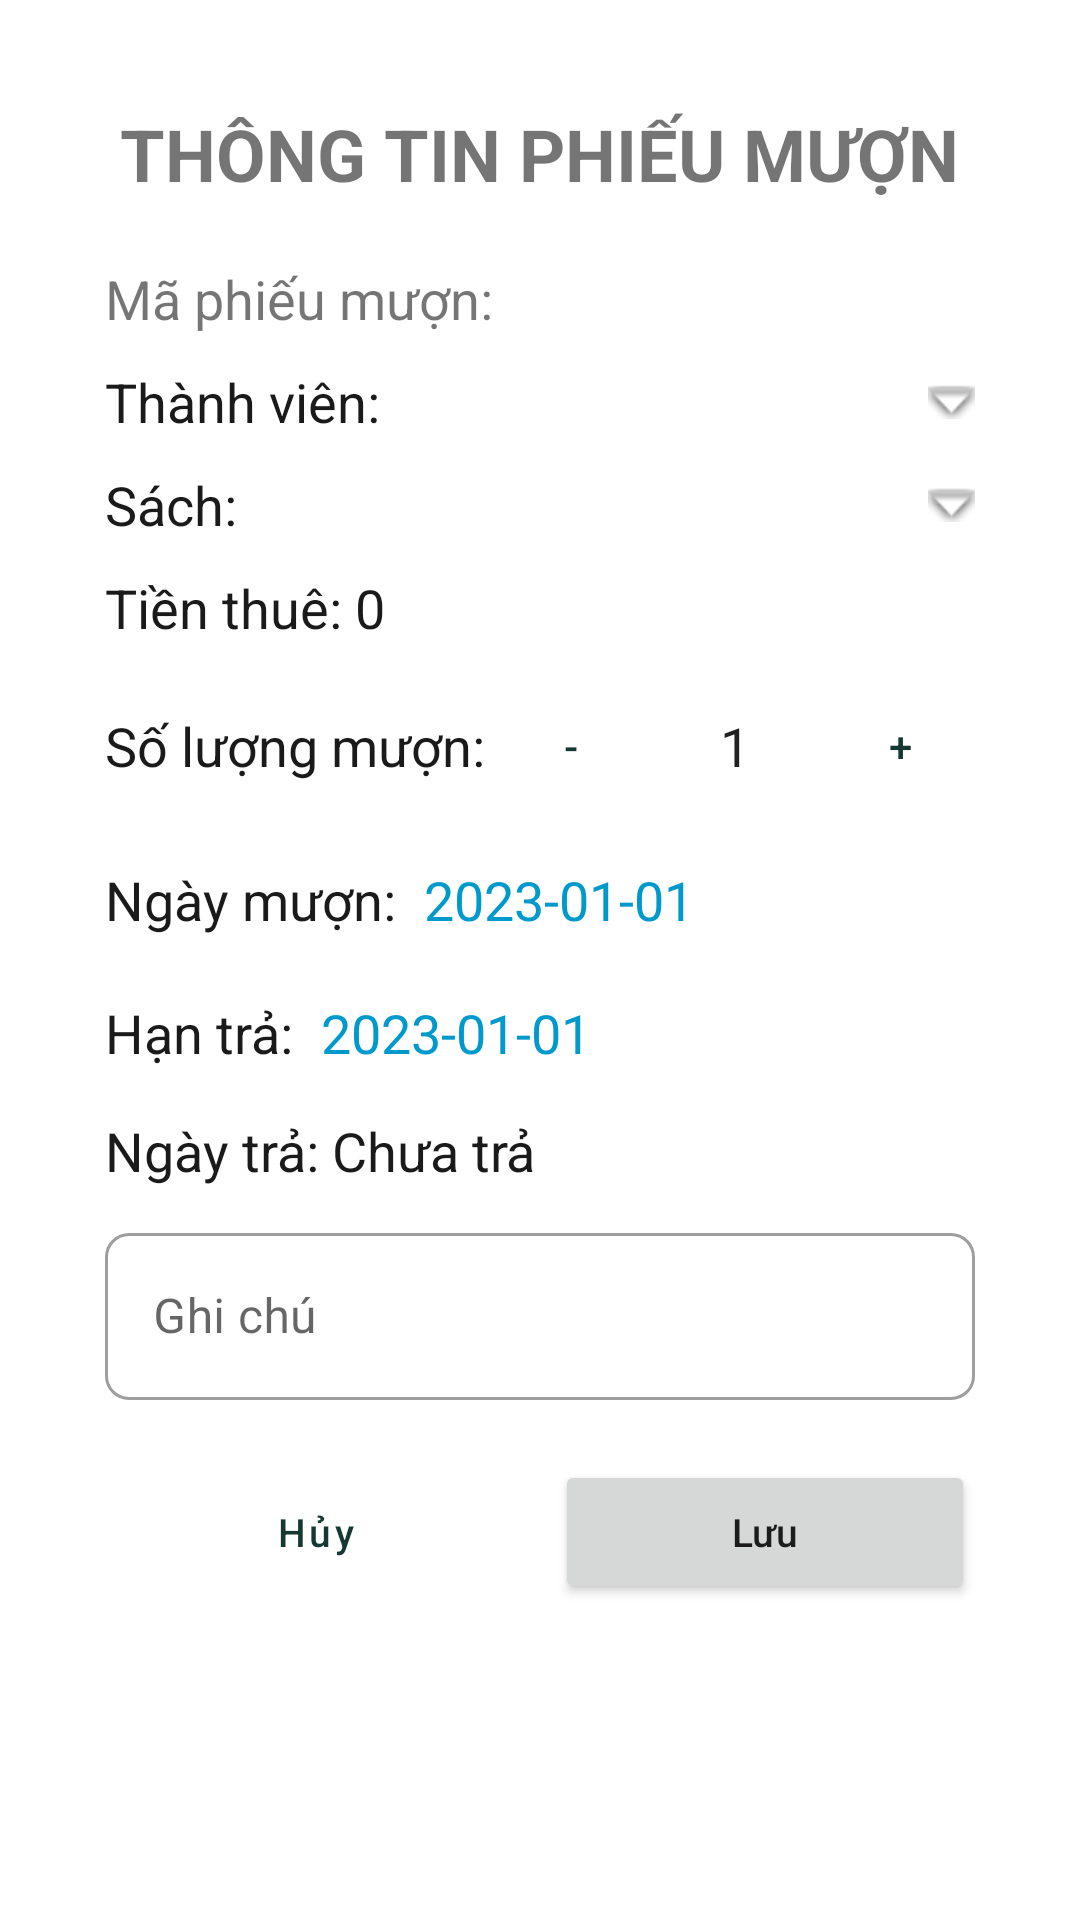

Named icons in this screenshot (1080 × 1920) and their centers, point (x, y):
Dropdown icon: point (951, 402), point (951, 505)
